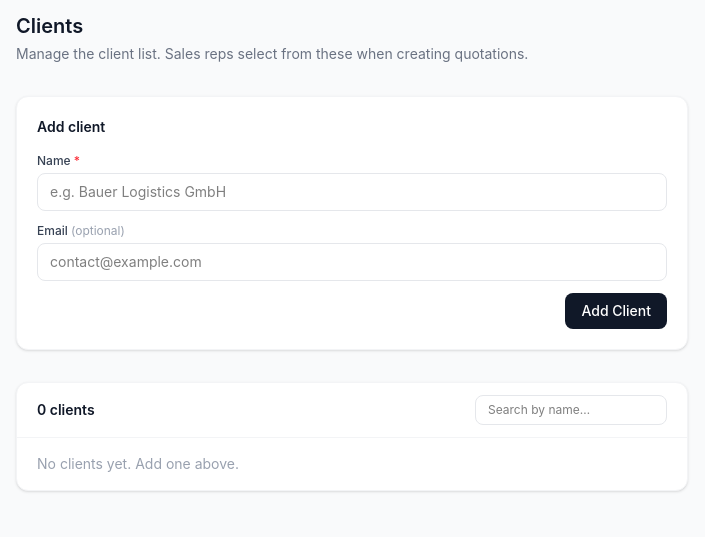
it: ClientsPage › shows validation error when name is empty on submit
Click the button "Add Client" at (616, 311), box [565,293,667,329]
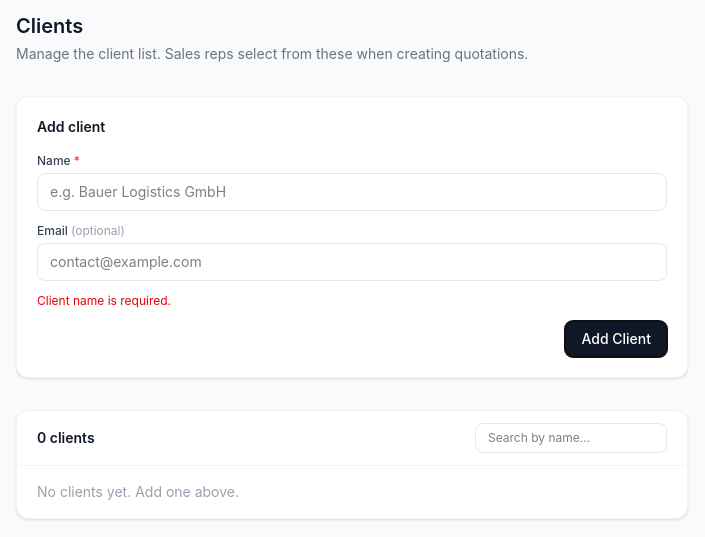
Now the text "Client name is required." is shown, box [37,293,171,308]
